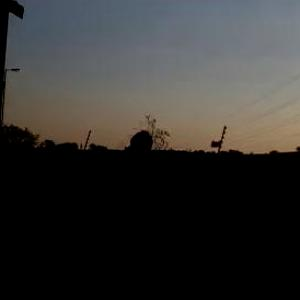follow: (97, 127, 171, 299)
